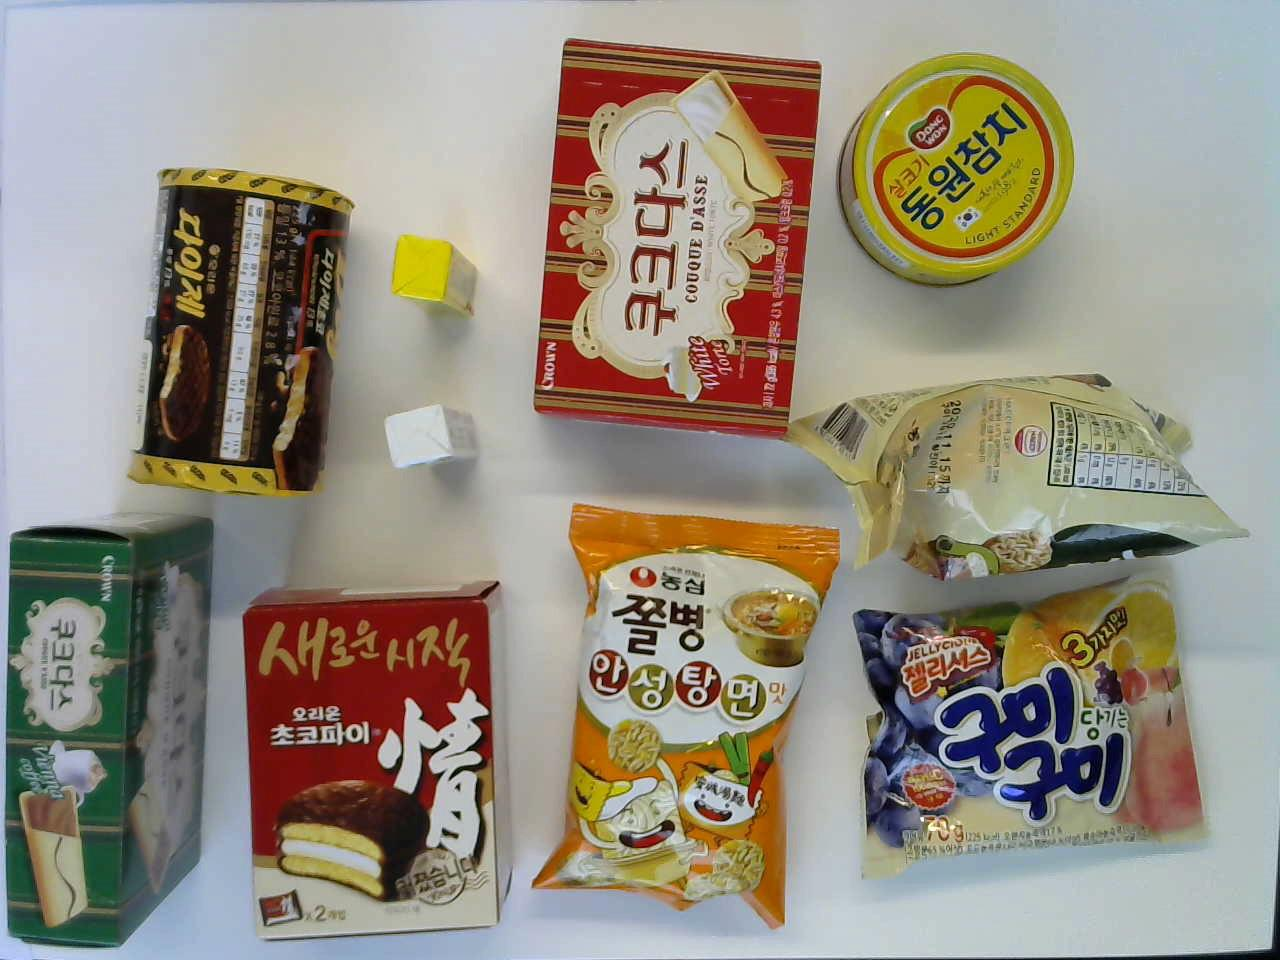chocopie: (238, 585, 519, 943)
couque_coffee: (0, 511, 215, 945)
couque_white: (504, 35, 834, 439)
diget_choco: (128, 161, 354, 498)
gumi_gumi: (852, 580, 1205, 885)
jjolbyung_noodle: (524, 504, 839, 923)
jjolbyung_ori: (778, 372, 1249, 582)
juicyfresh: (389, 228, 478, 320)
spearmint: (379, 397, 478, 480)
tuna: (841, 45, 1072, 286)
